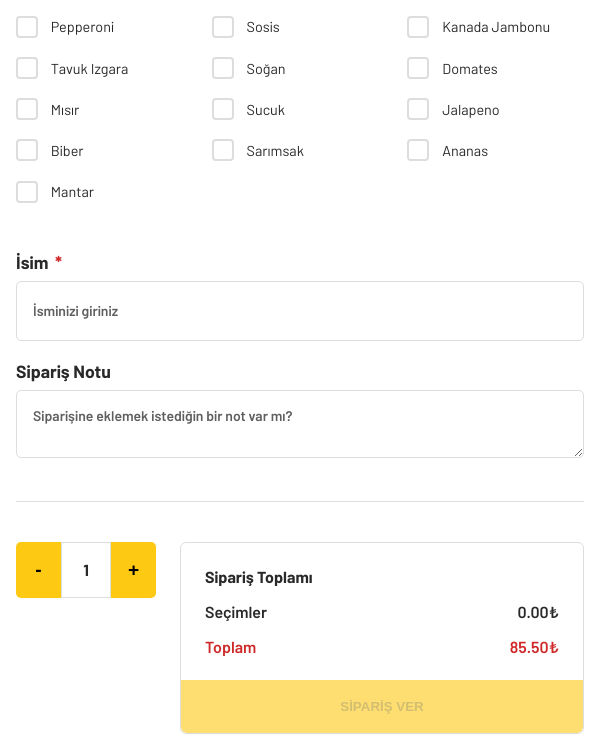
Test: Teknolojik Yemekler - Form Validasyonu › Adet artırma/azaltma çalışır
(page scrolled)
Expected: the text "1" is shown, [61,542,111,598]
Click the button "+" at (134, 570), box [111,542,156,598]
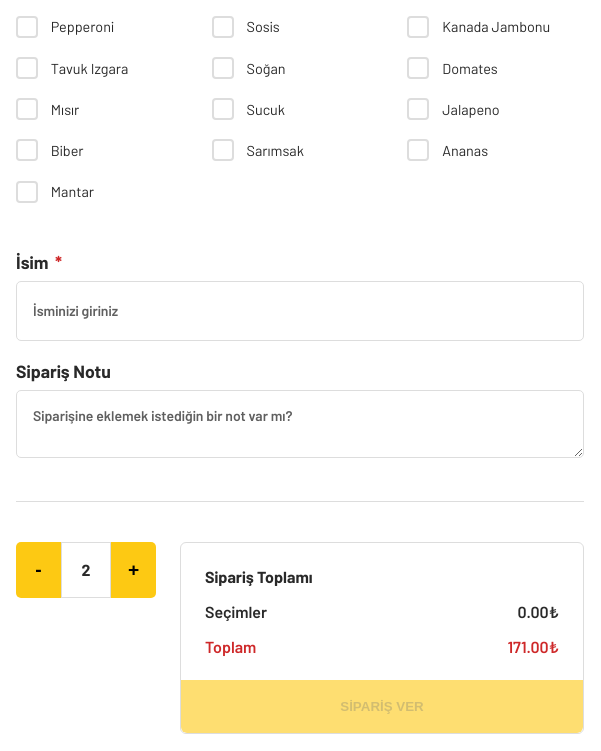
Expected: the text "2" is shown, [61,542,111,598]
Click the button "-" at (39, 570), box [16,542,61,598]
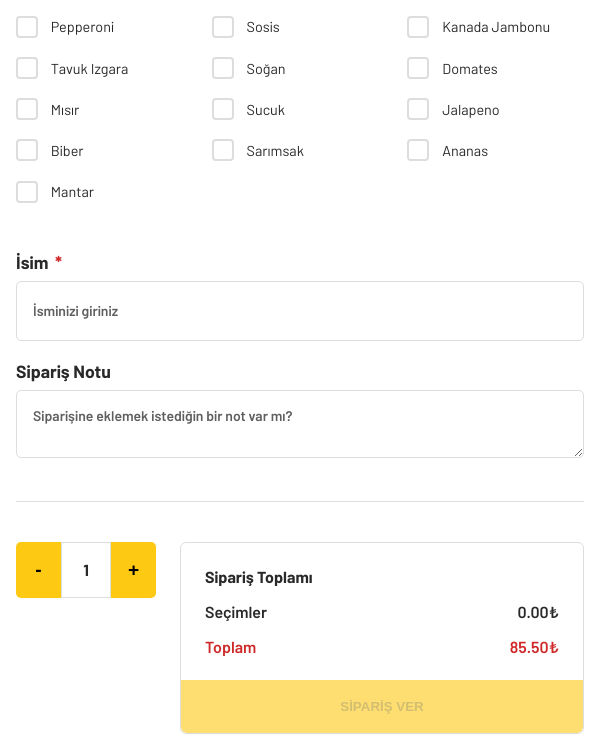
Expected: the text "1" is shown, [61,542,111,598]
